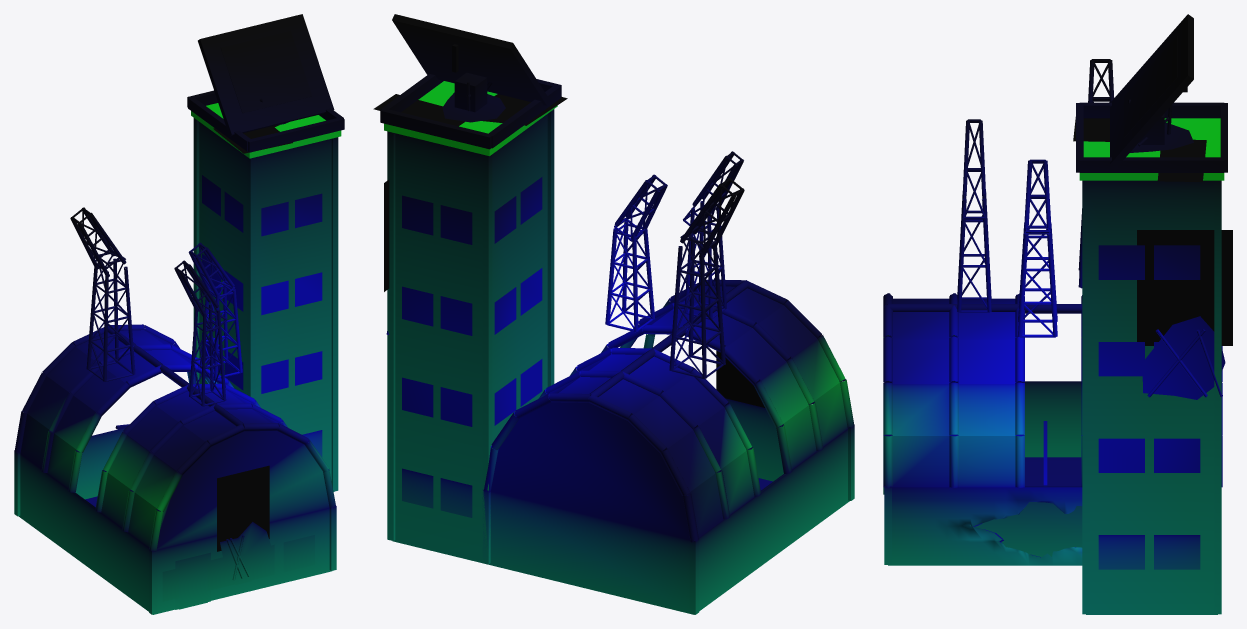
The model's file is l_sensorcontrol_damaged.glb.
3 views of the same model, side by side, from view 1: azimuth 30°, elevation 25°; view 2: azimuth 150°, elevation 25°; view 3: azimuth 270°, elevation 25° (orthographic). The views are drawn at different scales.
Parts seen in each view (by area): view 1: lod0; view 2: lod0; view 3: lod0.
Part boxes in pixels (<box>): lod0: <box>14,14,344,614</box>; lod0: <box>373,14,854,614</box>; lod0: <box>883,14,1232,614</box>.
Size of what is drawn, in the model's own units: 16.05 by 23.73 by 13.79.
